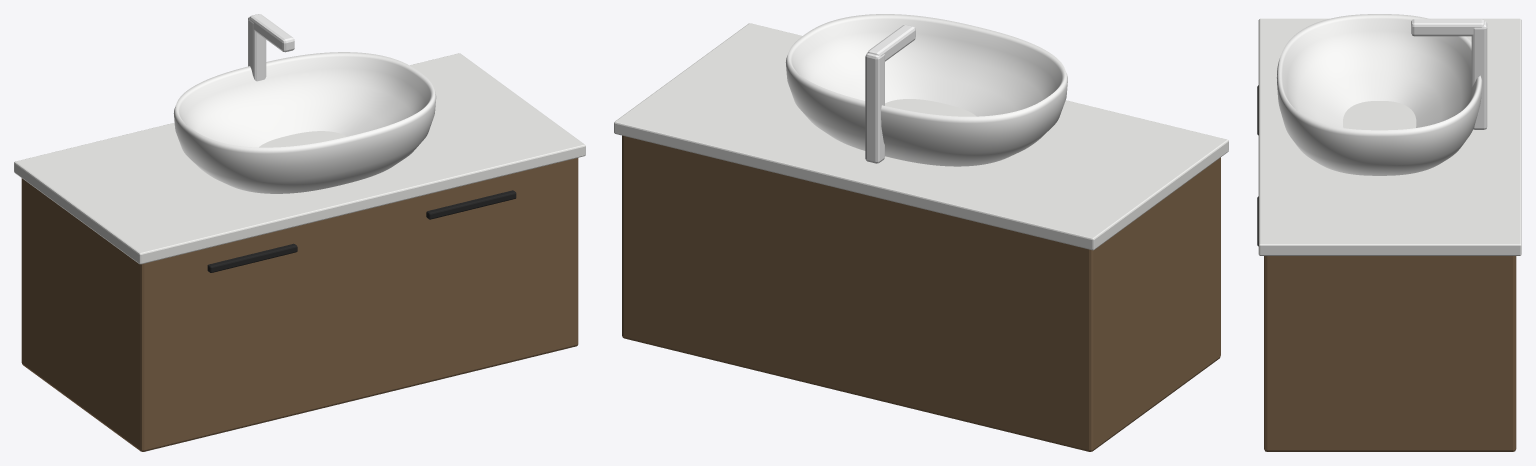
The picture shows the model from 3 angles, left to right: view 1: azimuth 30°, elevation 25°; view 2: azimuth 150°, elevation 25°; view 3: azimuth 270°, elevation 25°; orthographic projection. The views are drawn at different scales.
Visible parts, largest first — view 1: vanity, vanity top, countertop basin, tap, handle, handle.001, spout; view 2: vanity, vanity top, countertop basin, tap, spout; view 3: vanity, vanity top, countertop basin, tap, spout.
Part boxes in pixels (x1,y1,x2,y2): vanity: (21,158,578,451); vanity top: (14,53,585,264); countertop basin: (173,52,436,193); tap: (248,17,266,81); handle: (207,243,297,272); handle.001: (426,190,516,219); spout: (249,14,294,52); vanity: (622,135,1220,451); vanity top: (614,23,1228,250); countertop basin: (785,14,1067,166); tap: (865,53,884,163); spout: (867,24,915,61); vanity: (1264,256,1516,451); vanity top: (1258,18,1521,255); countertop basin: (1276,14,1482,175); tap: (1471,21,1487,129); spout: (1411,19,1484,36).
Size of the model in its own units: 1.02 by 0.674 by 0.5025.
